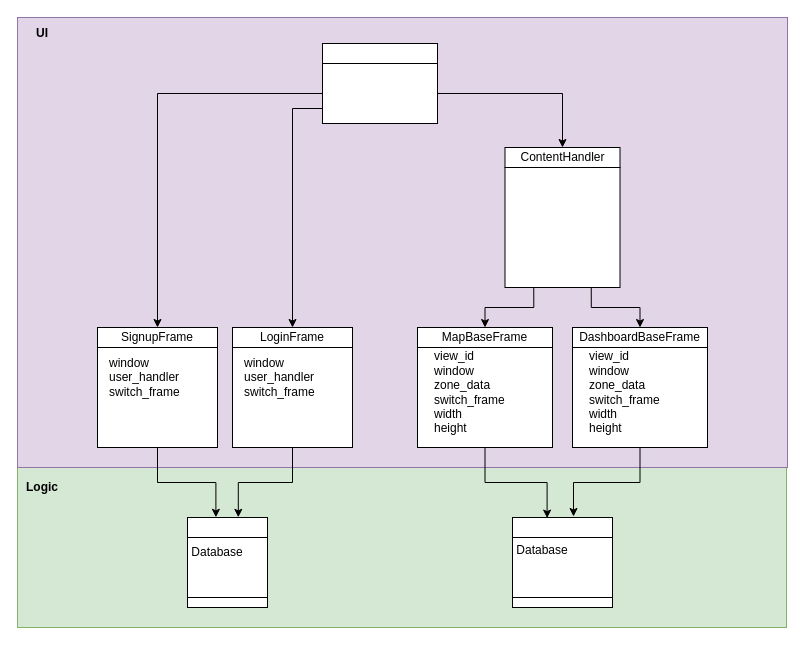
Image size: 805x645. Some labels were removed from this diagram. The shapes that lost their labels are listed below. From the top down, each one's centre as x and y in pixels, then its label:
At (x=380, y=53): "UiHandler".
At (x=380, y=93): "window database".
At (x=562, y=227): "window zone_data width height switch_state view_id".
At (x=227, y=527): "UserHandler".
At (x=562, y=527): "ZoneDataHandler".
